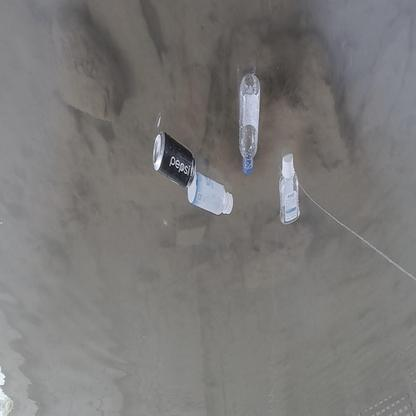can: (152, 132, 195, 189)
plastic bottle: (238, 73, 260, 174), (187, 171, 235, 216), (278, 153, 302, 224)
